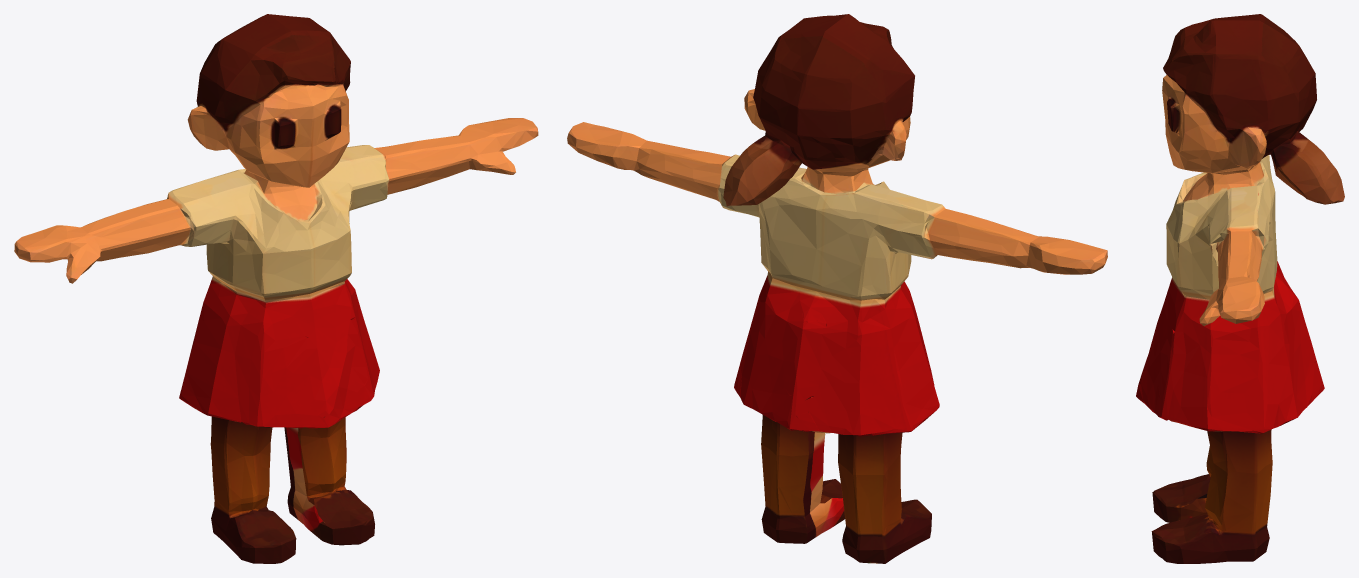
The model's file is whole-foods-market-fruit-topped-cheesecake-6-inch.glb.
3 views of the same model, side by side, from view 1: azimuth 30°, elevation 25°; view 2: azimuth 150°, elevation 25°; view 3: azimuth 270°, elevation 25° (orthographic). The views are drawn at different scales.
Parts seen in each view (by area): view 1: tmpw74yvplp.ply; view 2: tmpw74yvplp.ply; view 3: tmpw74yvplp.ply.
Part boxes in pixels (x1,y1,x2,y2): tmpw74yvplp.ply: (14, 14, 538, 563); tmpw74yvplp.ply: (567, 14, 1107, 563); tmpw74yvplp.ply: (1136, 14, 1344, 563).
Bounding box in the file's own units: 1.82 × 1.7 × 0.6273.
Materials: 1 (1 with a texture image).
